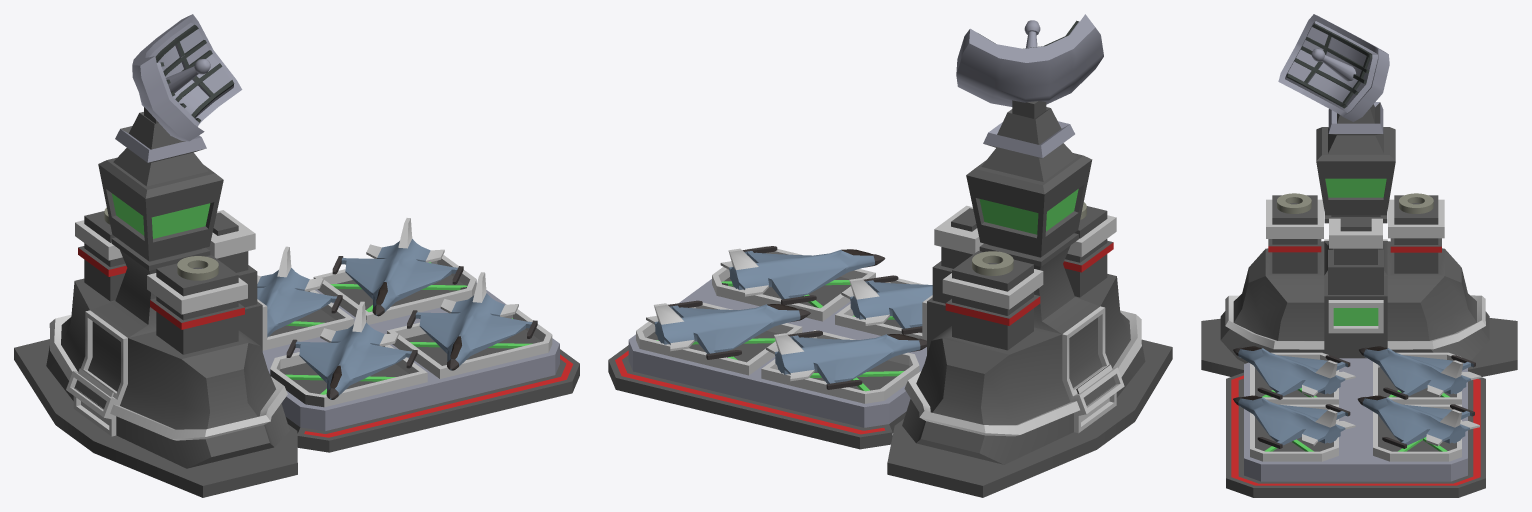
Rendered from 运输部.fbx.
The picture shows the model from 3 angles, left to right: view 1: azimuth 30°, elevation 25°; view 2: azimuth 150°, elevation 25°; view 3: azimuth 270°, elevation 25°; orthographic projection. The views are drawn at different scales.
Visible parts, largest first — view 1: 立方体_18; view 2: 立方体_18; view 3: 立方体_18.
Boxes of the visible parts, bbox=[...] form: 立方体_18: bbox=[14, 14, 579, 497]; 立方体_18: bbox=[608, 14, 1172, 497]; 立方体_18: bbox=[1201, 14, 1517, 497].
Size of the model in its own units: 270 by 225 by 199.
